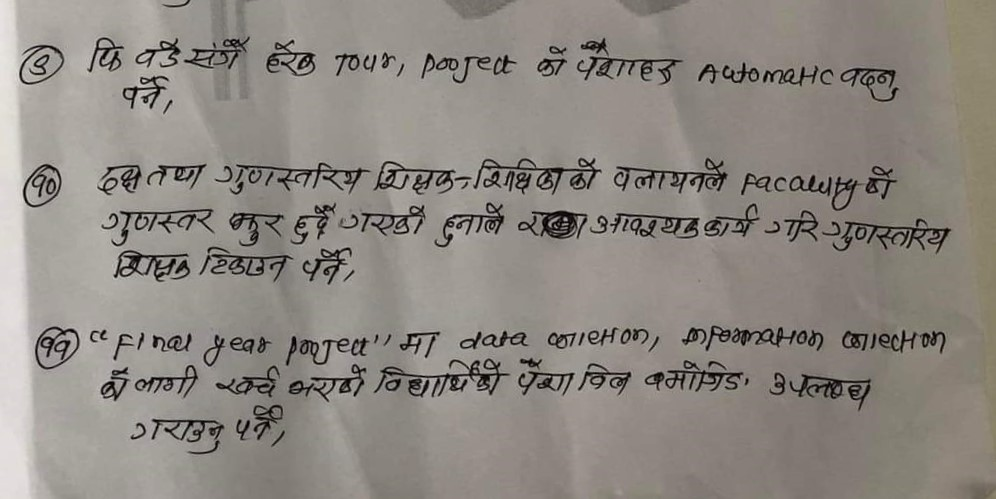text: (212, 158, 361, 198), (370, 359, 504, 401), (820, 216, 952, 256), (470, 155, 598, 196), (767, 366, 872, 415), (98, 204, 216, 247), (574, 41, 679, 89), (126, 414, 225, 461), (611, 157, 730, 196), (643, 359, 752, 399), (95, 157, 203, 195), (199, 245, 290, 285), (589, 210, 701, 241), (433, 201, 506, 248), (369, 159, 457, 197), (286, 363, 368, 403), (337, 202, 428, 238), (111, 248, 193, 285), (509, 357, 575, 400), (134, 361, 202, 401), (212, 364, 280, 402), (838, 66, 903, 104), (183, 36, 252, 71), (261, 39, 318, 80), (287, 200, 337, 246), (227, 209, 287, 247), (702, 201, 758, 240), (298, 248, 353, 286), (577, 362, 631, 400), (766, 209, 821, 246), (232, 400, 279, 441), (131, 38, 183, 71), (85, 35, 126, 75), (121, 75, 165, 112), (860, 164, 902, 200), (395, 329, 439, 359), (97, 366, 130, 406), (535, 42, 568, 78), (38, 334, 72, 364), (27, 172, 58, 198), (25, 53, 52, 80)
